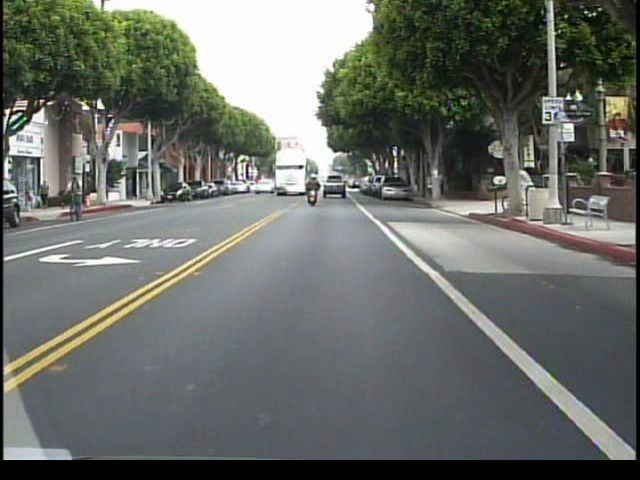person: (69, 173, 90, 217), (306, 171, 324, 211), (422, 170, 433, 200), (444, 170, 452, 197), (436, 171, 444, 195)
